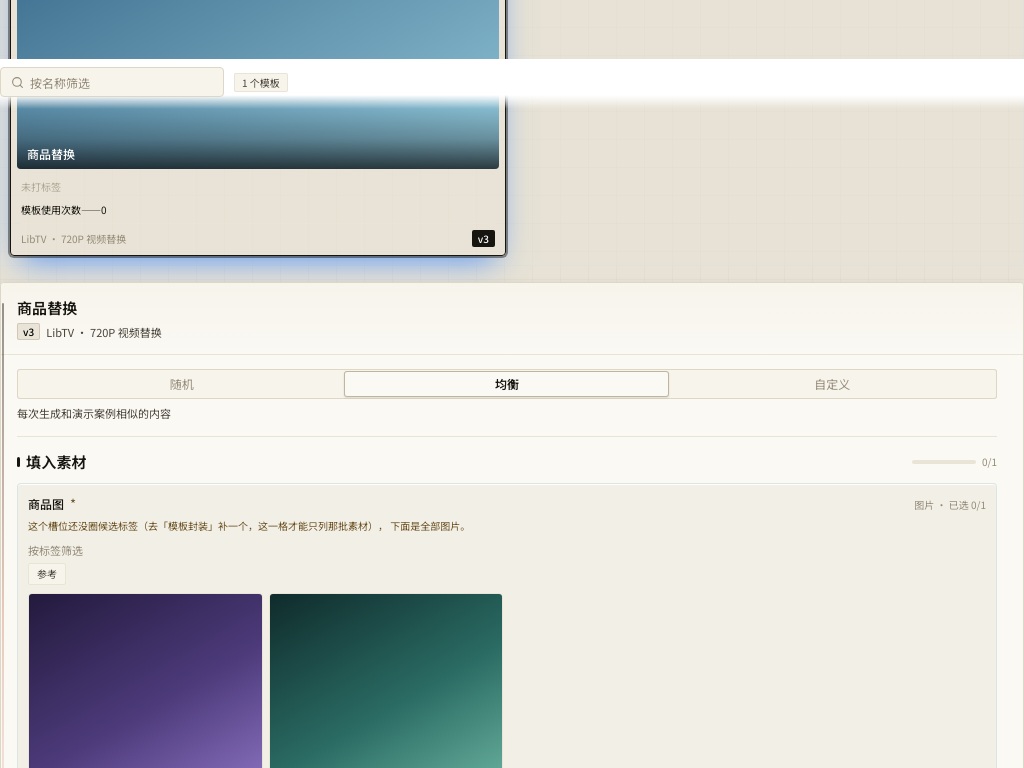
Test: 模板库 · 随机性三档 › 切档不弄丢自定义档挑的素材（随机档只是不提交它）
(page scrolled)
Expected: the text "商品图" is shown, left=28, top=495, right=64, bottom=513
Click the radio button labelled "自定义".
click(832, 384)  # box left=670, top=371, right=995, bottom=397
(page scrolled)
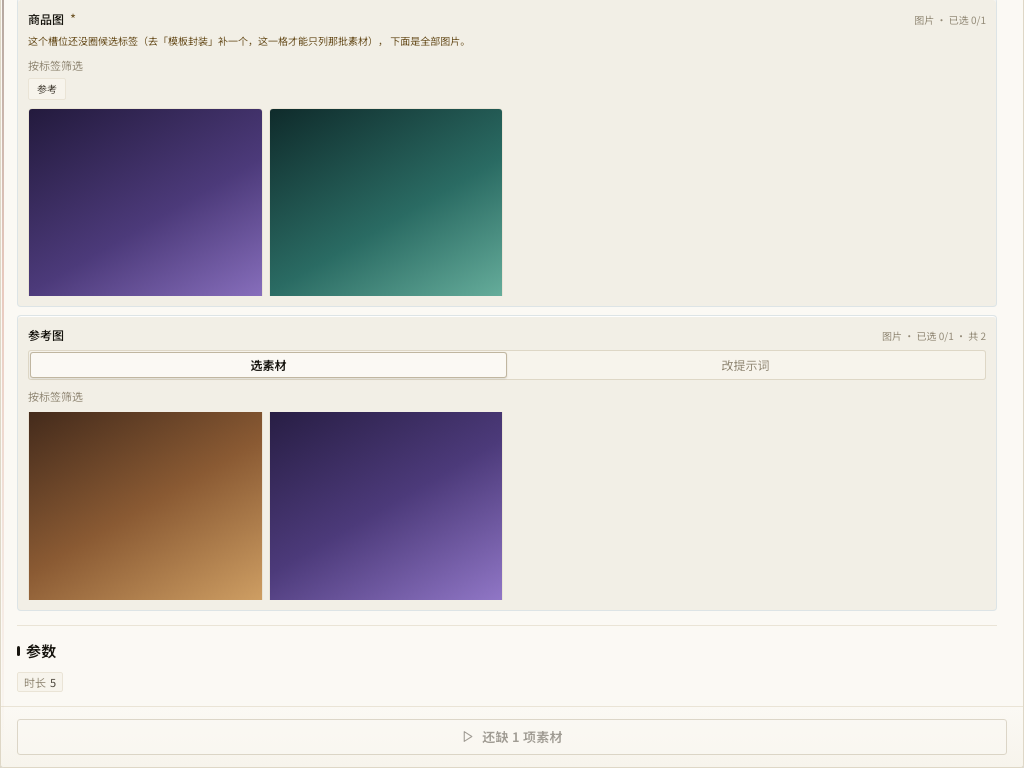
Click the button titled "参考图一.png".
click(145, 506)  # box left=28, top=389, right=262, bottom=624
(page scrolled)
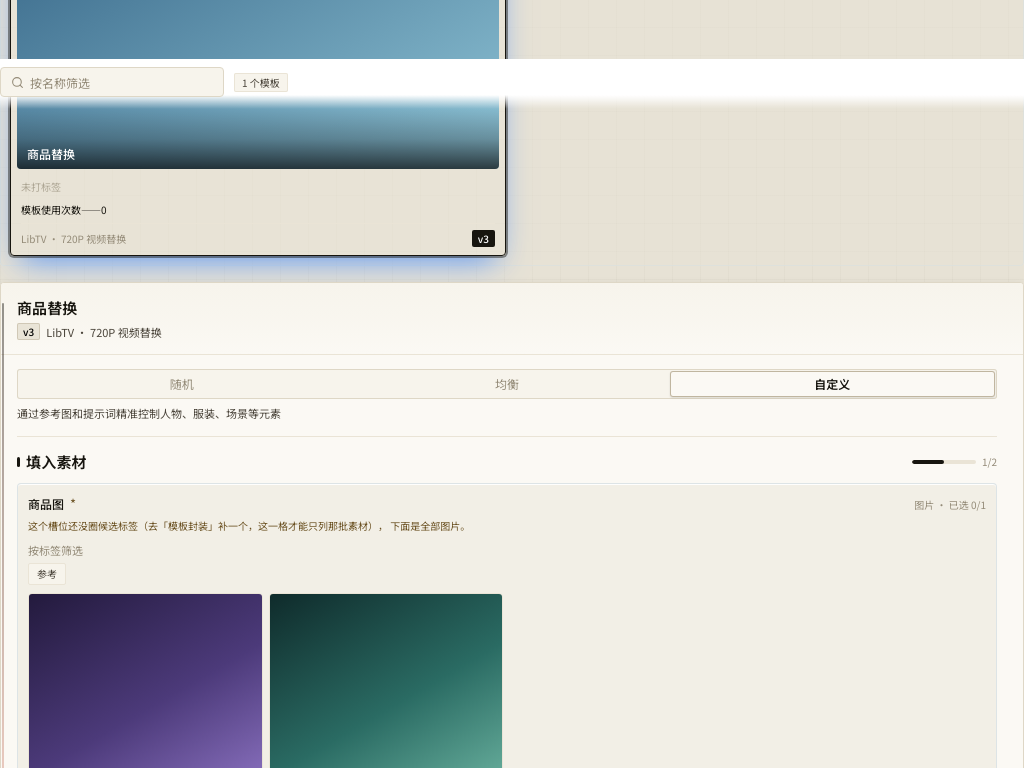
Click the radio button labelled "随机".
click(182, 384)  # box left=19, top=371, right=344, bottom=397
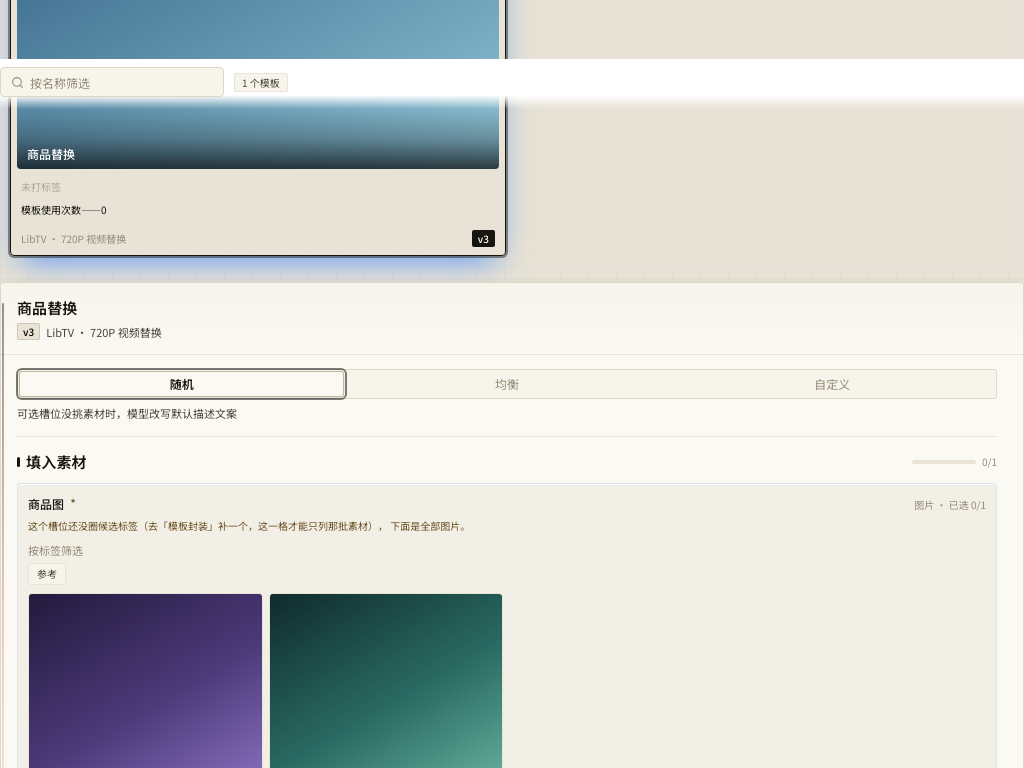
Click the radio button labelled "自定义".
click(832, 384)  # box left=670, top=371, right=995, bottom=397
(page scrolled)
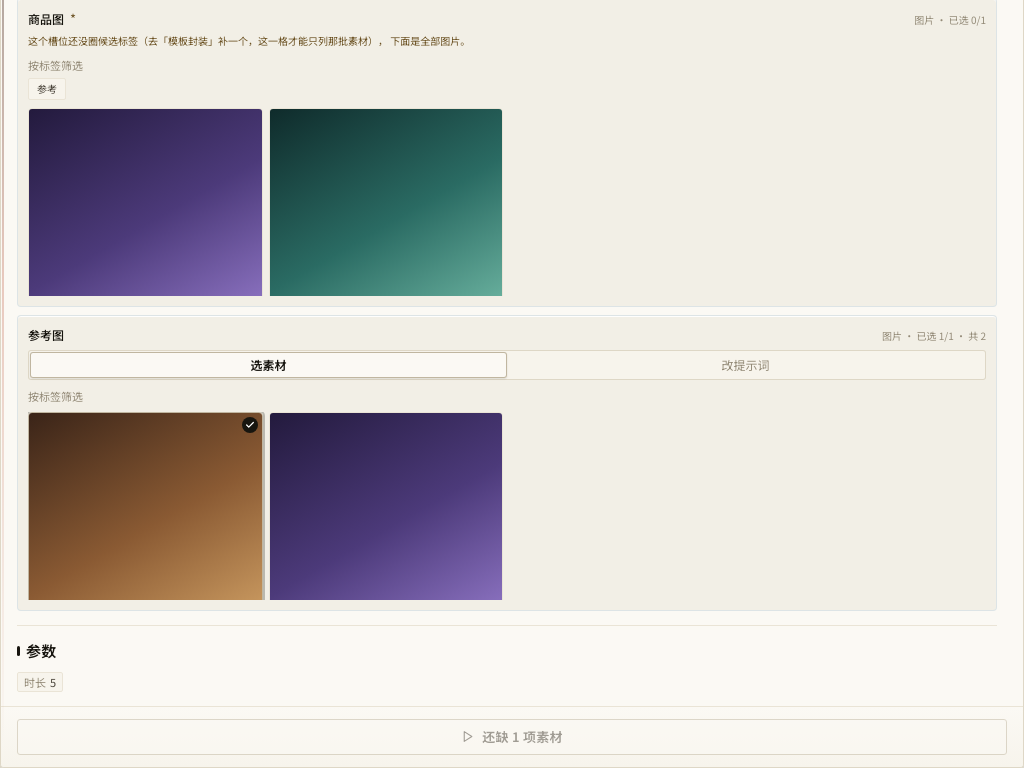
Expected: the icon with class "lucide-check" is shown, left=244, top=420, right=254, bottom=430
